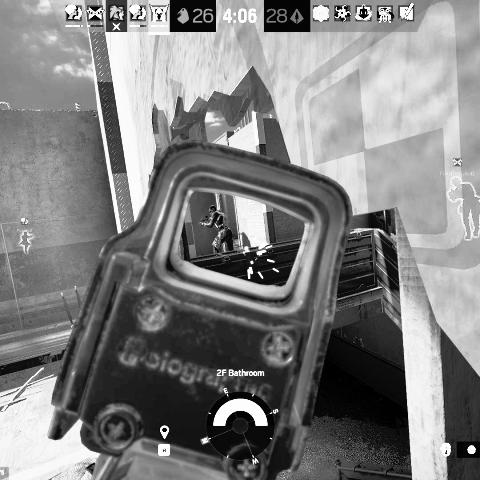Character: (198, 204, 236, 257)
Friend_label: (440, 156, 476, 177), (16, 217, 33, 233)
Head: (208, 205, 216, 215)
